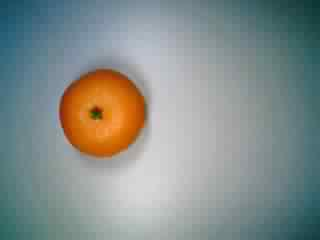orange: (55, 64, 147, 162)
